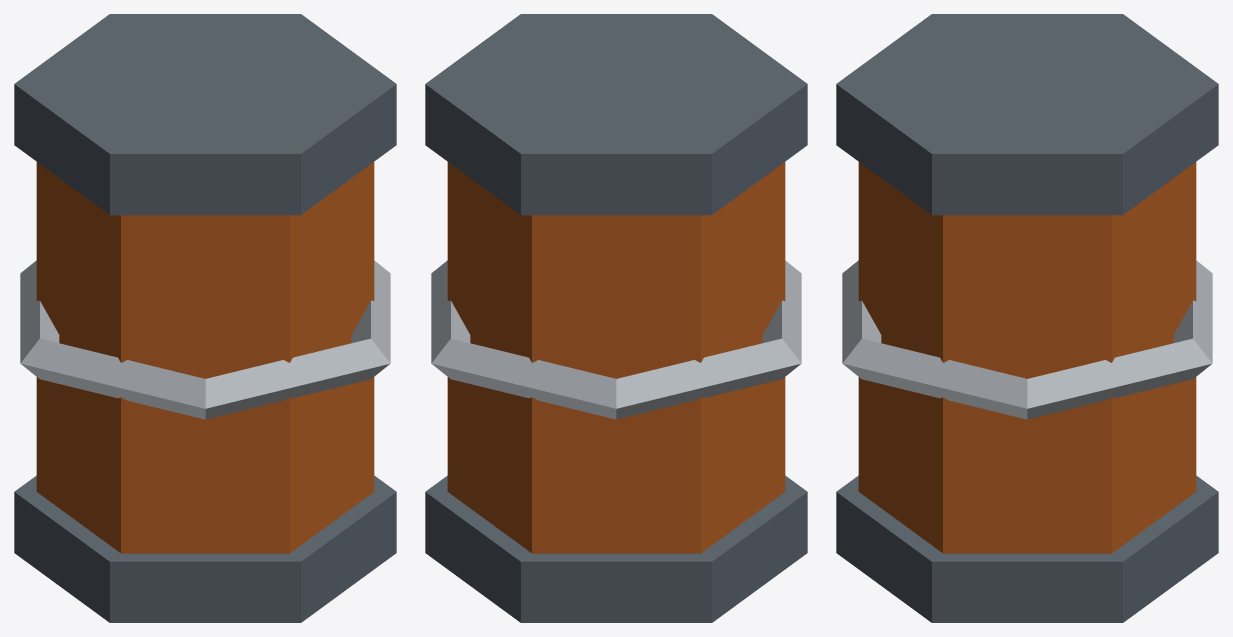
The model's file is datacron.lod.glb.
3 views of the same model, side by side, from view 1: azimuth 30°, elevation 25°; view 2: azimuth 150°, elevation 25°; view 3: azimuth 270°, elevation 25° (orthographic).
Visible parts, largest first — view 1: m; view 2: m; view 3: m.
Boxes of the visible parts, box(x1,y1,x2,y2) form: m: box(14, 14, 396, 622); m: box(425, 14, 807, 622); m: box(836, 14, 1218, 622).
Size of the model in its own units: 0.0743 by 0.09 by 0.0665.
